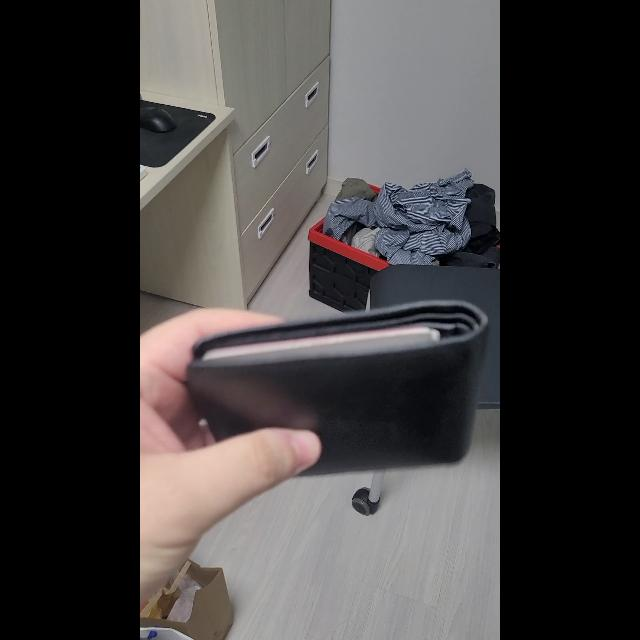WALLET: (185, 299, 490, 476)
